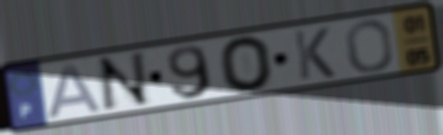9: (165, 44, 215, 101)
A: (44, 62, 105, 121)
K: (291, 26, 338, 83)
N: (95, 50, 154, 115)
O: (216, 34, 276, 94), (343, 18, 396, 75)
